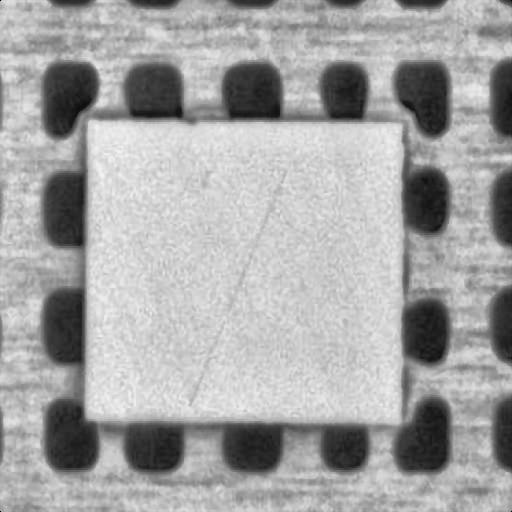DIE_CRACK: (250, 128, 377, 303)
